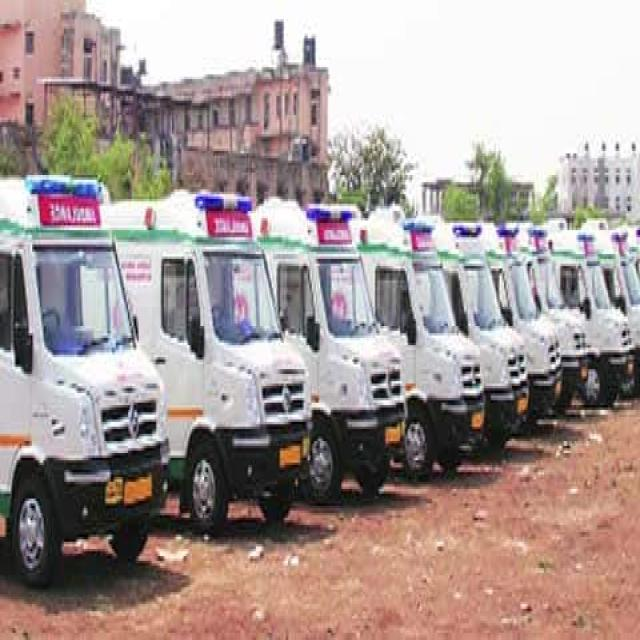ambulance: (111, 187, 310, 545), (1, 176, 172, 579), (247, 198, 408, 505), (361, 208, 485, 480), (450, 222, 530, 436), (498, 226, 561, 415), (584, 219, 633, 411), (548, 229, 593, 403)
